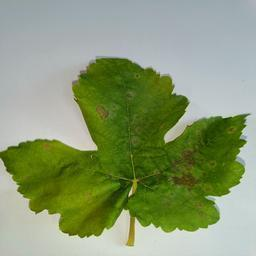Powdery-Mildew: (171, 153, 199, 191), (58, 188, 94, 210), (109, 73, 137, 101), (41, 143, 58, 160), (94, 104, 110, 120), (195, 202, 211, 218)
